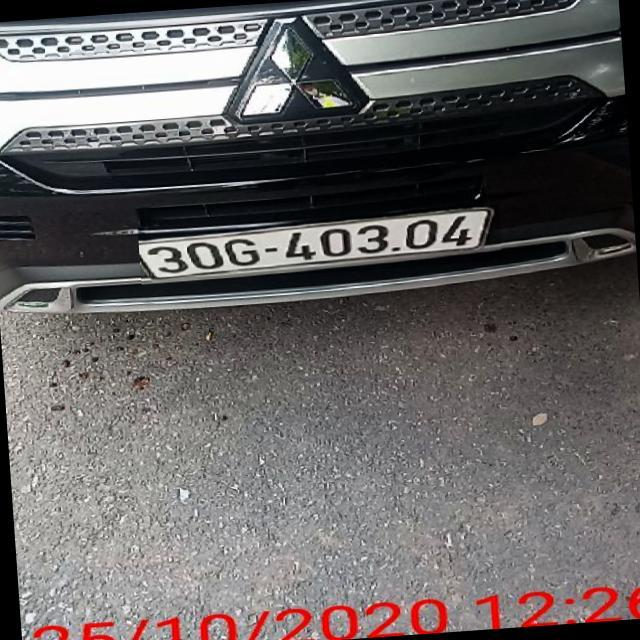car: (0, 1, 640, 315), (81, 611, 120, 640)
plate: (135, 204, 495, 288)
